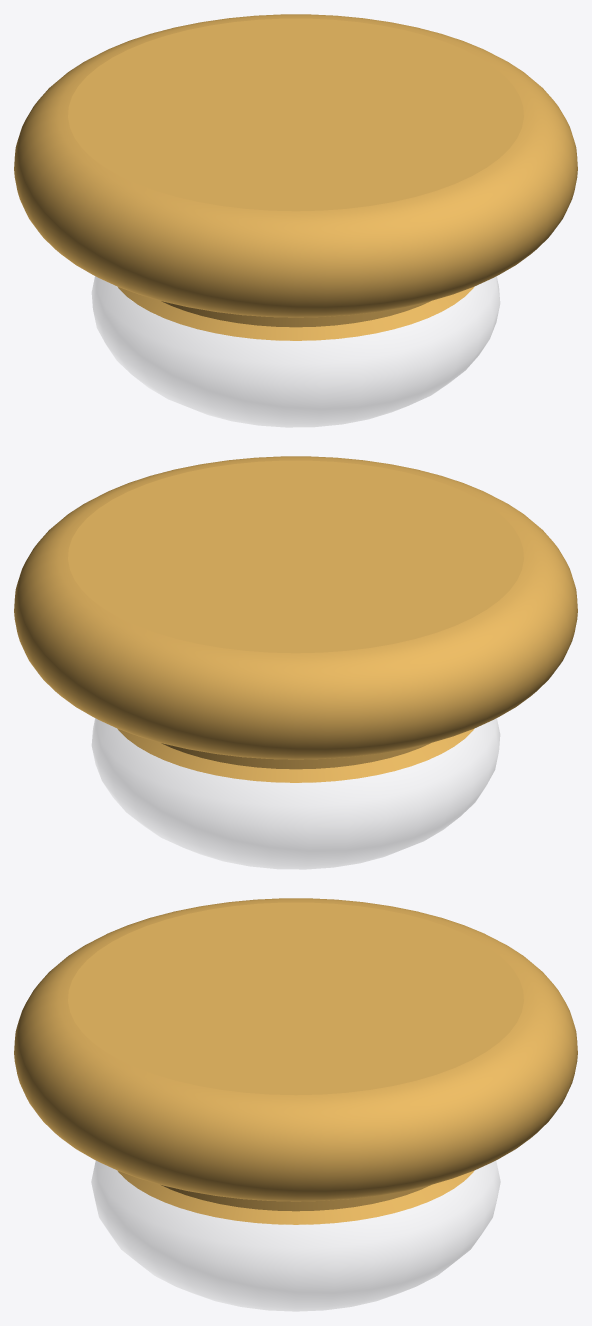
3 renders of one model, top to bottom at view 1: azimuth 30°, elevation 25°; view 2: azimuth 150°, elevation 25°; view 3: azimuth 270°, elevation 25°, orthographic.
Parts seen in each view (by area): view 1: cabin.001_15; view 2: cabin.001_15; view 3: cabin.001_15.
Boxes of the visible parts, bbox=[...] form: cabin.001_15: bbox=[14, 14, 577, 427]; cabin.001_15: bbox=[14, 456, 577, 869]; cabin.001_15: bbox=[14, 898, 577, 1311].
Bounding box in the file's own units: 0.4656 × 0.2551 × 0.4658.
